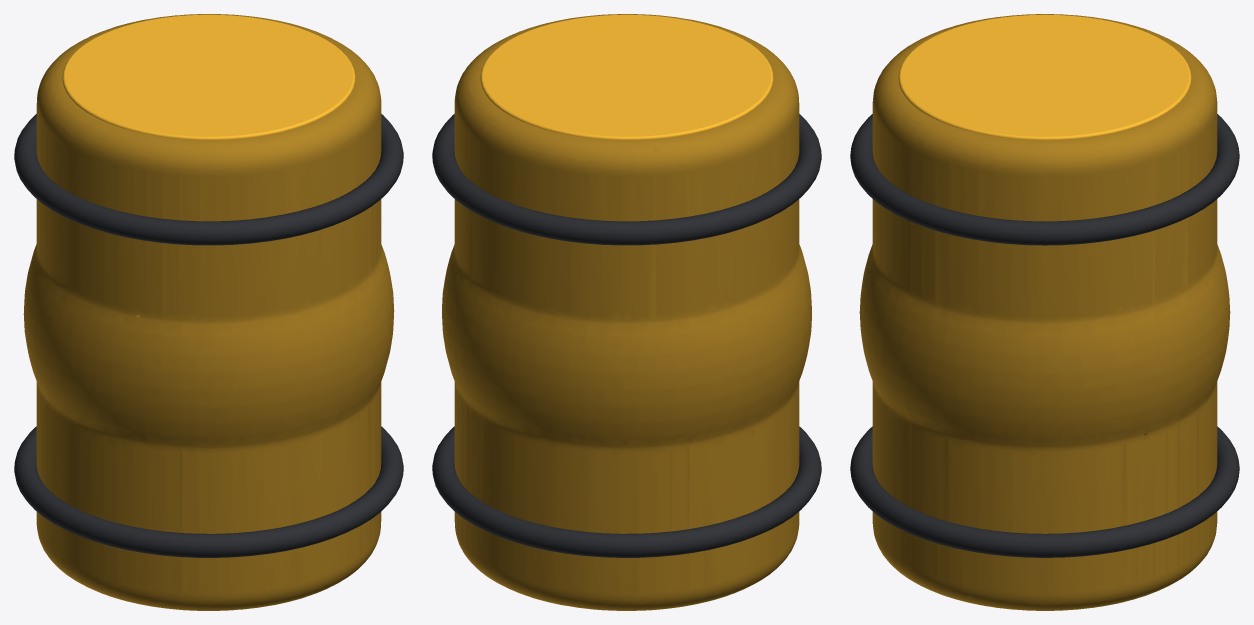
The model's file is barrel.glb.
The picture shows the model from 3 angles, left to right: view 1: azimuth 30°, elevation 25°; view 2: azimuth 150°, elevation 25°; view 3: azimuth 270°, elevation 25°; orthographic projection.
Parts seen in each view (by area): view 1: Belly, Lid, Hoop, Hoop.001; view 2: Belly, Lid, Hoop, Hoop.001; view 3: Belly, Lid, Hoop.001, Hoop.
Boxes of the visible parts, <box> form: Belly: <box>23,14,394,610</box>; Lid: <box>62,14,355,139</box>; Hoop: <box>14,426,403,557</box>; Hoop.001: <box>14,114,403,245</box>; Belly: <box>442,14,811,610</box>; Lid: <box>480,14,773,139</box>; Hoop: <box>432,426,821,557</box>; Hoop.001: <box>432,114,821,245</box>; Belly: <box>859,14,1230,610</box>; Lid: <box>898,14,1191,140</box>; Hoop.001: <box>850,114,1239,245</box>; Hoop: <box>850,426,1239,557</box>.
Bounding box in the file's own units: 0.452 × 0.603 × 0.452.
